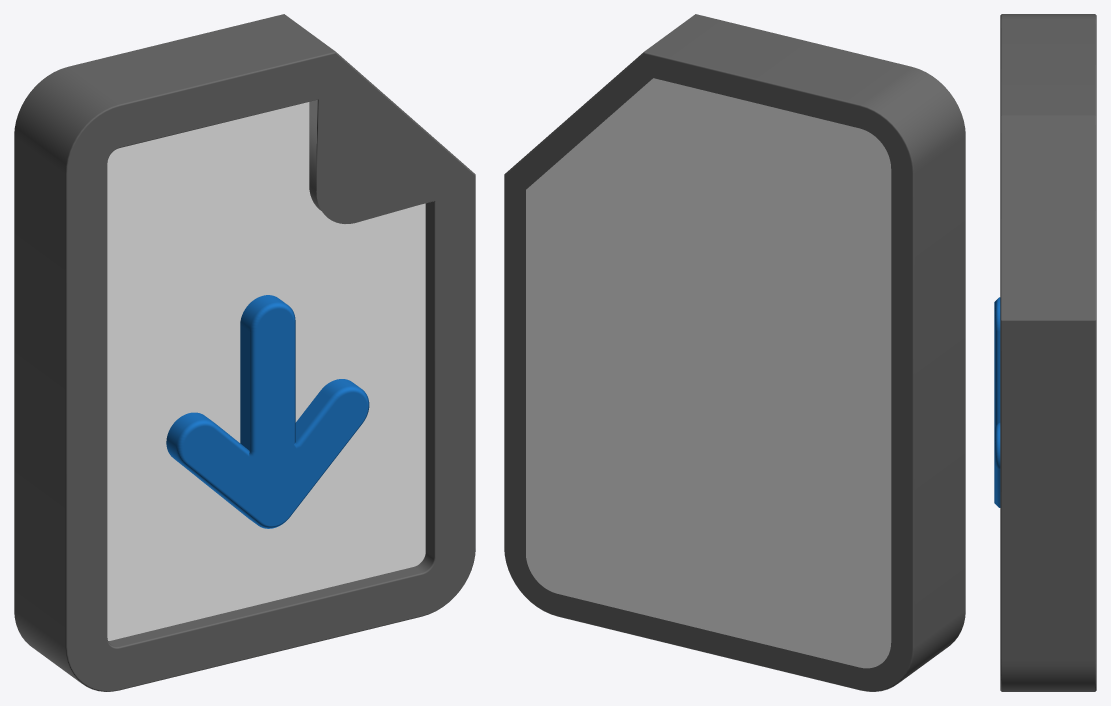
File: download1.glb
3 renders of one model, left to right at view 1: azimuth 30°, elevation 25°; view 2: azimuth 150°, elevation 25°; view 3: azimuth 270°, elevation 25°, orthographic. The views are drawn at different scales.
Parts seen in each view (by area): view 1: outline, body, arrow.001; view 2: body, outline; view 3: outline, arrow.001.
Part boxes in pixels (x1,y1,x2,y2): outline: (14,14,475,691); body: (107,102,425,640); arrow.001: (166,295,369,528); body: (526,78,891,668); outline: (504,14,965,691); outline: (1000,14,1096,691); arrow.001: (994,297,1000,507).
Bounding box in the file's own units: 2.69 × 3.67 × 0.638.
